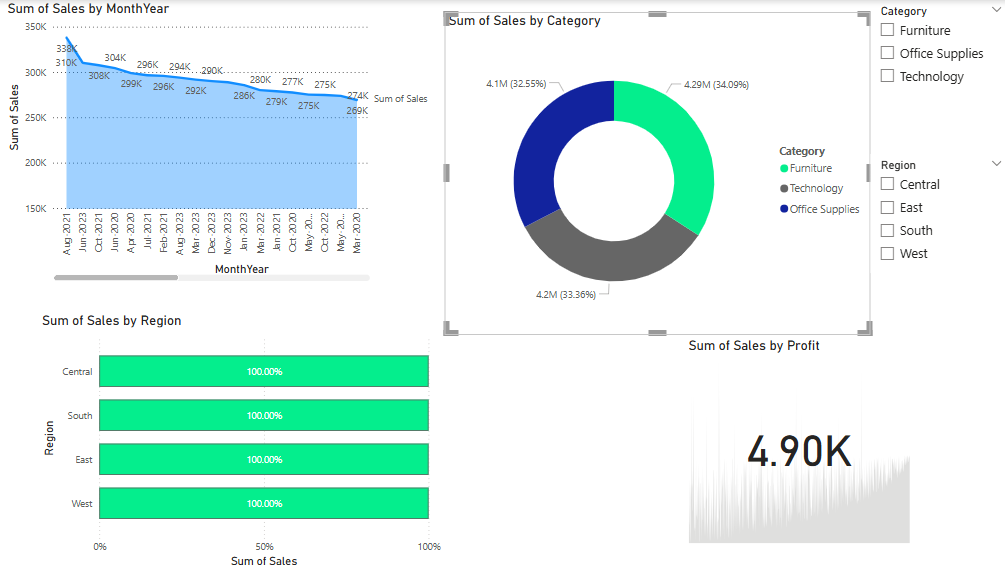

What the dashboard file says about the page in this screenshot:
{"tool":"powerbi","page":{"name":"Page 1","canvas":[1280,720],"ordinal":0},"visuals":[{"type":"lineChart","fields":{"Category":["Superstore_Sales_Custom.MonthYear"],"Y":["Sum(Superstore_Sales_Custom.Sales)"]},"box":[9.4,0,542.4,359.1],"z":0},{"type":"hundredPercentStackedBarChart","fields":{"Category":["Superstore_Sales_Custom.Region"],"Y":["Sum(Superstore_Sales_Custom.Sales)"]},"box":[52.9,393.1,512.1,326.9],"z":1},{"type":"donutChart","fields":{"Category":["Superstore_Sales_Custom.Category"],"Y":["Sum(Superstore_Sales_Custom.Sales)"]},"box":[565,15.1,536.7,406.3],"z":2},{"type":"slicer","fields":{"Values":["Superstore_Sales_Custom.Category"]},"box":[1101.7,0,177.6,149.3],"z":3},{"type":"slicer","fields":{"Values":["Superstore_Sales_Custom.Region"]},"box":[1101.7,194.6,177.6,149.3],"z":4},{"type":"kpi","fields":{"Indicator":["Sum(Superstore_Sales_Custom.Sales)"],"TrendLine":["Superstore_Sales_Custom.Profit"]},"box":[867.4,425.2,289.1,264.6],"z":5}]}

Visuals, with their boxes in screenshot pixels (x1, y1, x2, y2), scaled from the page's 1280x720 canvas onto the 1005x569 screenshot:
lineChart - Superstore_Sales_Custom.MonthYear x Sum(Superstore_Sales_Custom.Sales): 7/0/433/284
hundredPercentStackedBarChart - Superstore_Sales_Custom.Region x Sum(Superstore_Sales_Custom.Sales): 42/311/444/568
donutChart - Superstore_Sales_Custom.Category x Sum(Superstore_Sales_Custom.Sales): 444/12/865/333
slicer - Superstore_Sales_Custom.Category: 865/0/1004/118
slicer - Superstore_Sales_Custom.Region: 865/154/1004/272
kpi - Sum(Superstore_Sales_Custom.Sales) x Superstore_Sales_Custom.Profit: 681/336/908/545
